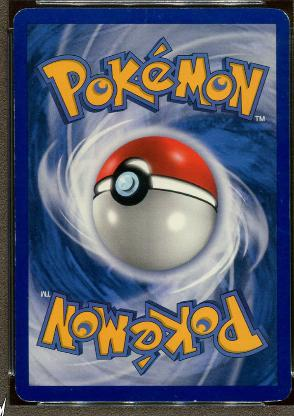Card: (8, 3, 292, 408)
Corner Wear: (260, 386, 290, 404), (14, 386, 42, 402), (12, 6, 36, 22), (276, 8, 289, 24), (184, 399, 200, 401)
Edge Wear: (12, 84, 15, 181), (13, 192, 16, 268), (13, 300, 16, 368)
Scratch: (269, 224, 287, 238), (276, 187, 284, 209), (155, 11, 162, 19), (143, 8, 147, 22), (150, 9, 154, 20)
